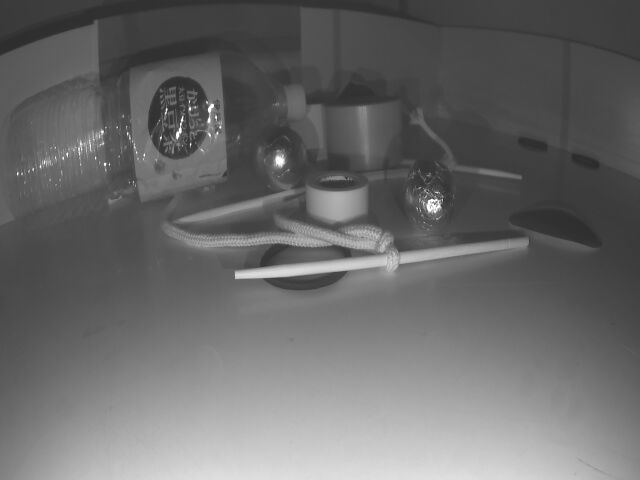Live: (406, 161, 451, 229), (253, 135, 306, 187)
